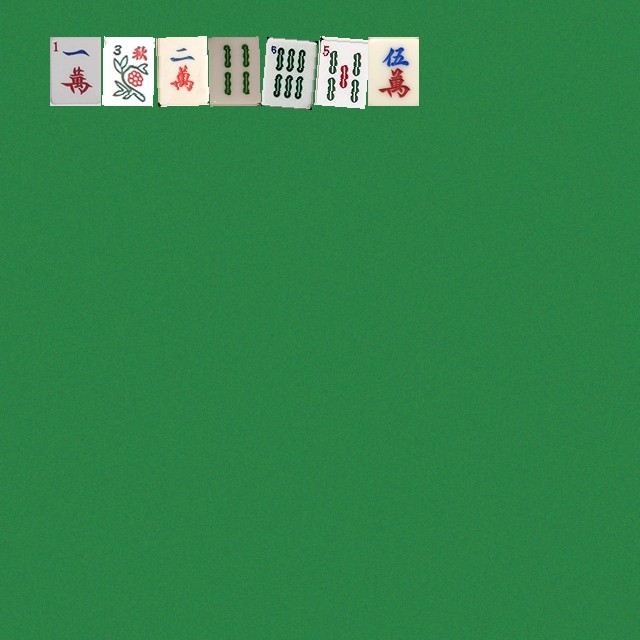tile: (49, 36, 100, 105), (102, 36, 153, 105), (155, 36, 206, 105), (208, 36, 259, 105), (261, 36, 312, 105), (314, 36, 365, 105), (367, 36, 418, 105)
